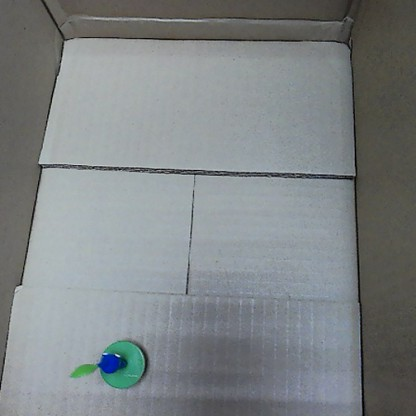leafairy: (64, 334, 150, 391)
